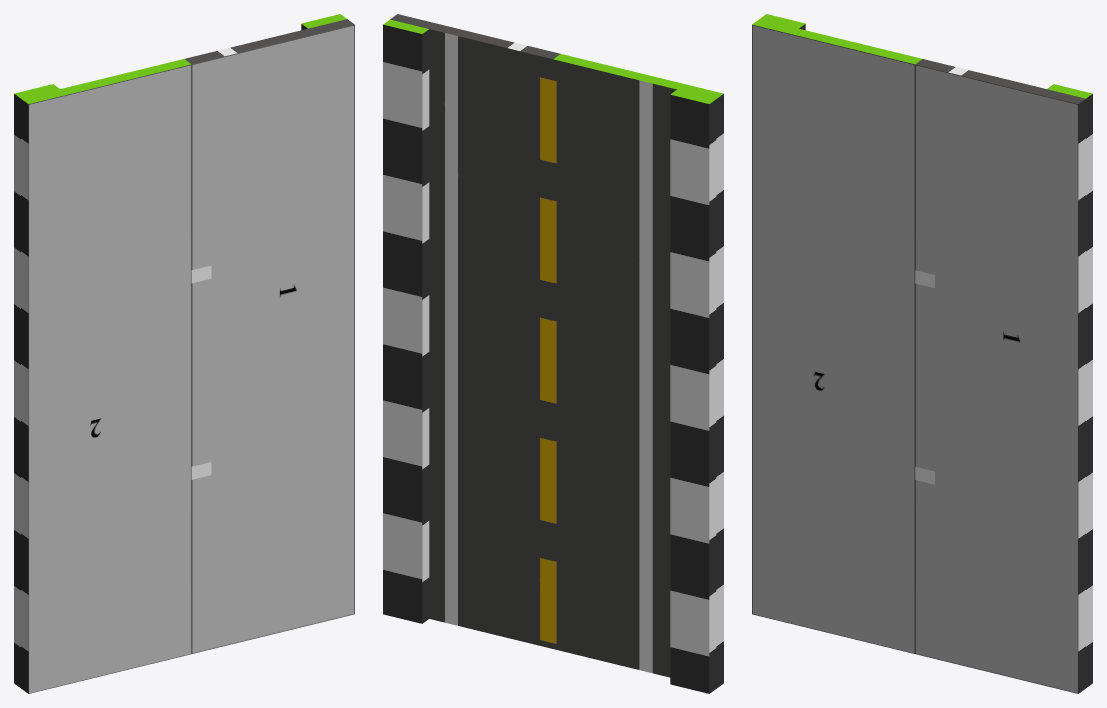
The model's file is jalan v2.fbx.
3 renders of one model, left to right at view 1: azimuth 30°, elevation 25°; view 2: azimuth 150°, elevation 25°; view 3: azimuth 330°, elevation 25°, orthographic.
Parts seen in each view (by area): view 1: Cube.001; view 2: Cube.001; view 3: Cube.001.
Part boxes in pixels (bbox=[...]): Cube.001: bbox=[14, 14, 354, 693]; Cube.001: bbox=[383, 14, 723, 693]; Cube.001: bbox=[752, 14, 1092, 693].
Size of the model in its own units: 1045 by 1805 by 80.27.
